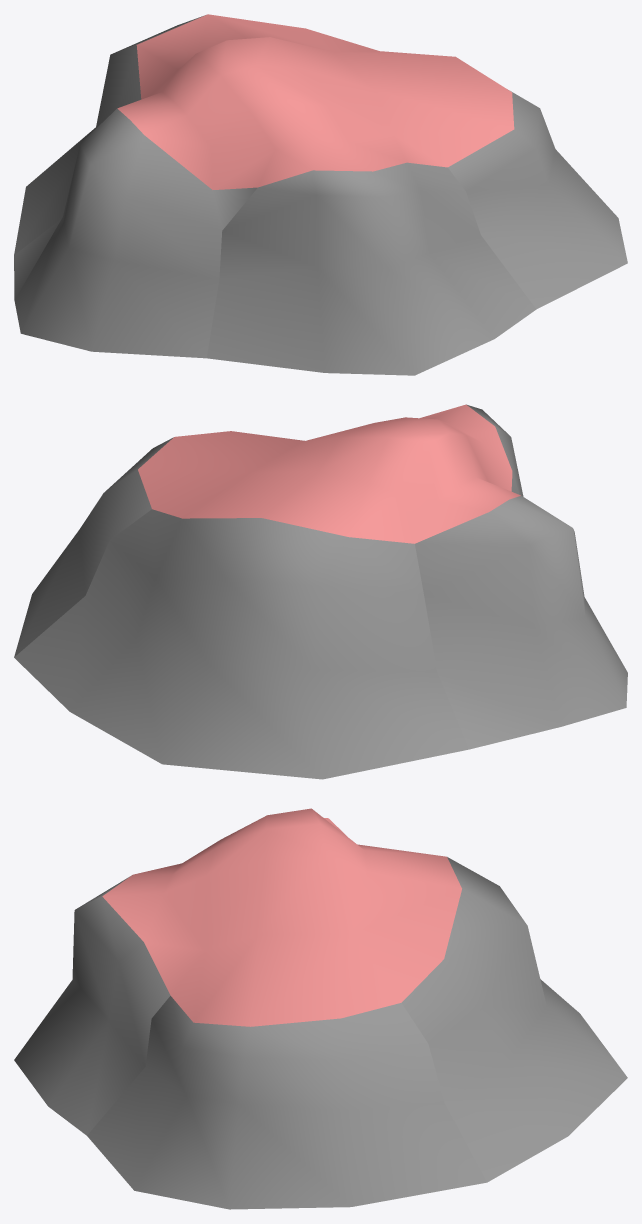
Rendered from PriPlain_stone02.gltf.
The picture shows the model from 3 angles, top to bottom: view 1: azimuth 30°, elevation 25°; view 2: azimuth 150°, elevation 25°; view 3: azimuth 270°, elevation 25°; orthographic projection. The views are drawn at different scales.
Parts seen in each view (by area): view 1: PriPlain_stone02; view 2: PriPlain_stone02; view 3: PriPlain_stone02.
Part boxes in pixels (x1=…): PriPlain_stone02: x1=14, y1=14, x2=627, y2=375; PriPlain_stone02: x1=14, y1=404, x2=627, y2=779; PriPlain_stone02: x1=14, y1=808, x2=627, y2=1209.
Size of the model in its own units: 1.99 by 0.7624 by 1.91.
